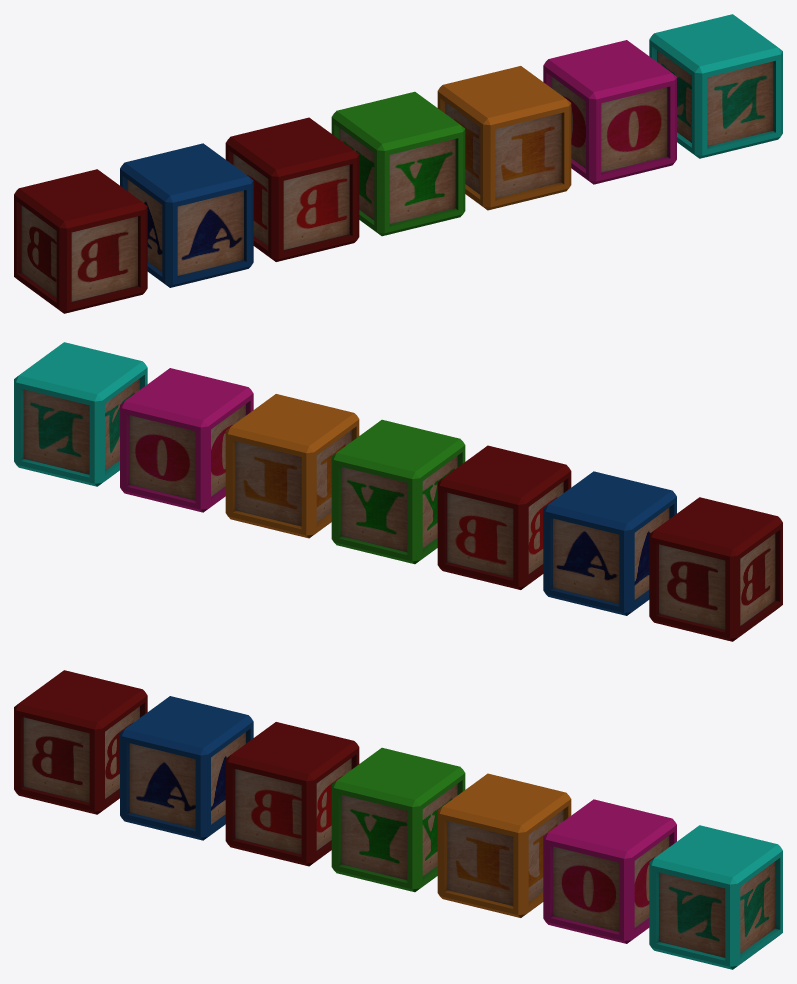
Rendered from CubesImageFormat.gltf.
3 renders of one model, top to bottom at view 1: azimuth 30°, elevation 25°; view 2: azimuth 150°, elevation 25°; view 3: azimuth 330°, elevation 25°, orthographic.
Parts seen in each view (by area): view 1: B, B_2, Y, L, A, O, N; view 2: B, B_2, Y, L, A, O, N; view 3: N, L, Y, B_2, O, B, A.
Part boxes in pixels (left/top/right/bottom): B: left=14, top=169, right=147, bottom=313; B_2: left=225, top=117, right=359, bottom=261; Y: left=331, top=91, right=465, bottom=236; L: left=437, top=66, right=571, bottom=210; A: left=120, top=143, right=253, bottom=287; O: left=543, top=40, right=676, bottom=184; N: left=649, top=14, right=782, bottom=158; B: left=649, top=497, right=782, bottom=641; B_2: left=437, top=445, right=571, bottom=589; Y: left=331, top=419, right=465, bottom=564; L: left=225, top=394, right=359, bottom=538; A: left=543, top=471, right=676, bottom=615; O: left=120, top=368, right=253, bottom=512; N: left=14, top=342, right=147, bottom=486; N: left=649, top=825, right=782, bottom=969; L: left=437, top=773, right=571, bottom=917; Y: left=331, top=747, right=465, bottom=892; B_2: left=225, top=722, right=359, bottom=866; O: left=543, top=799, right=676, bottom=943; B: left=14, top=670, right=147, bottom=814; A: left=120, top=696, right=253, bottom=840.
Bounding box in the file's own units: 820 × 100 × 100.
7 materials, 7 textured.
